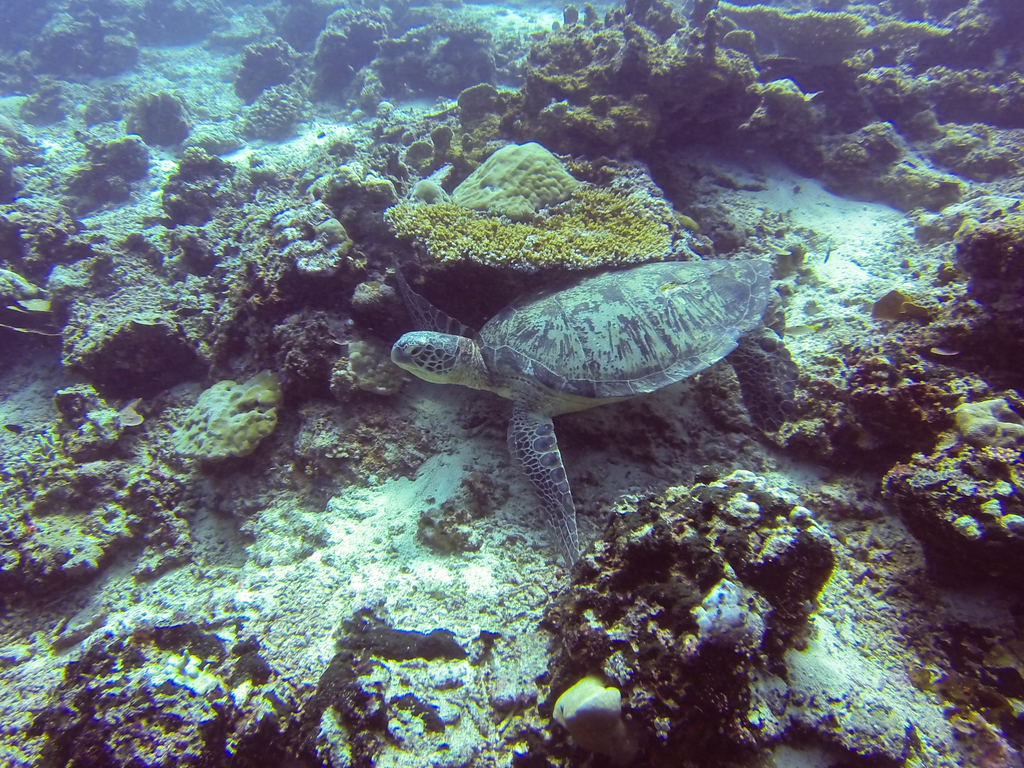Sea turtles: (385, 249, 802, 568)
